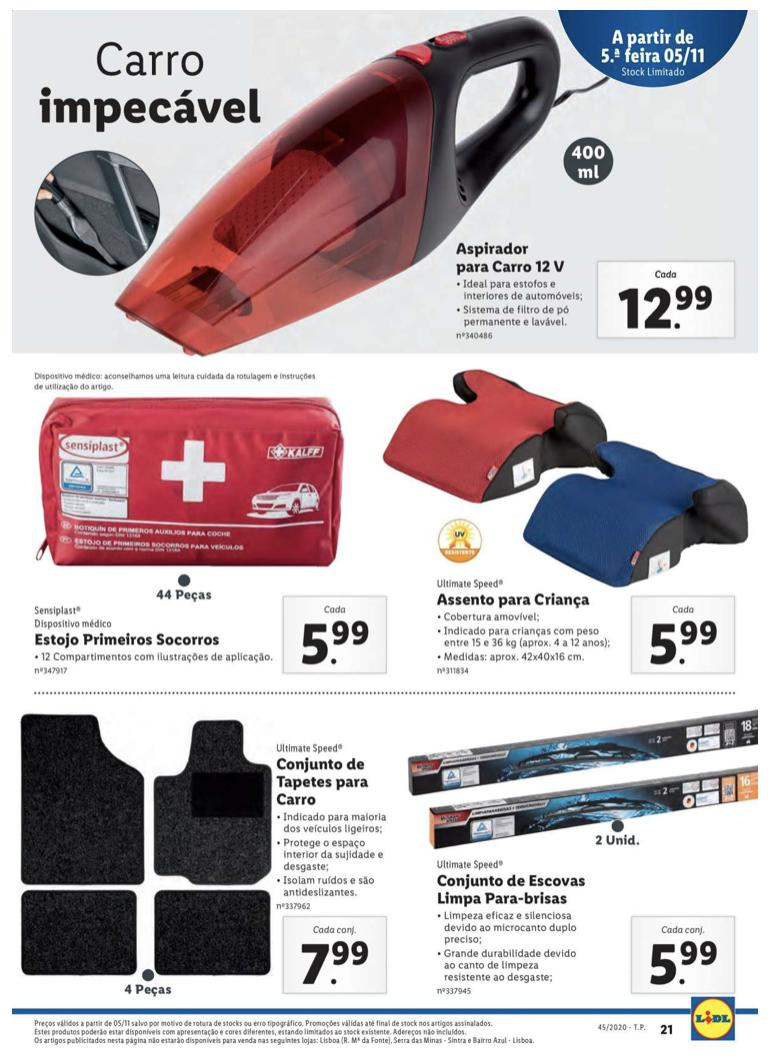name: (270, 752, 372, 811), (435, 871, 590, 907), (448, 235, 570, 277), (433, 586, 598, 614), (33, 627, 223, 651)
price: (616, 282, 714, 334), (645, 938, 723, 992), (644, 617, 720, 672), (297, 938, 373, 989), (298, 619, 374, 669)
product: (32, 26, 756, 350), (20, 360, 395, 681), (395, 359, 762, 681), (14, 701, 393, 1002), (394, 704, 770, 998)
